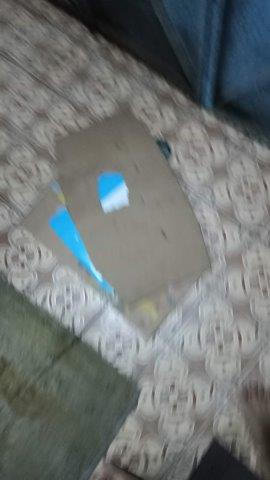kardus: (27, 116, 213, 332)
